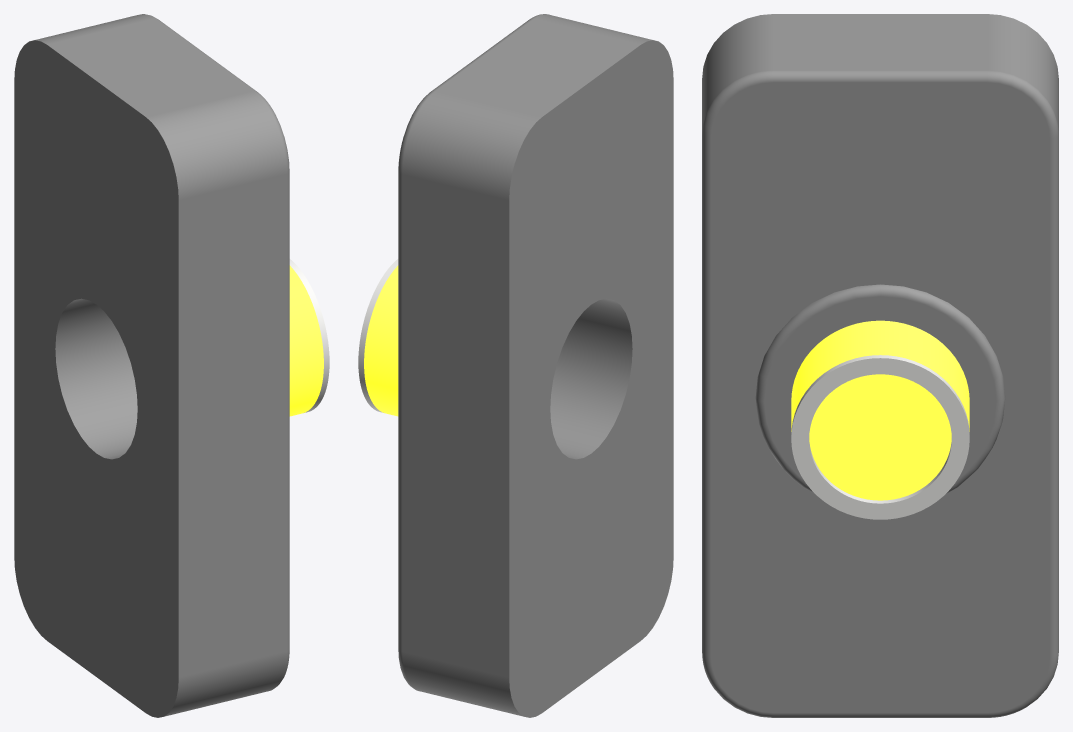
File: boutonjaune.gltf
3 views of the same model, side by side, from view 1: azimuth 30°, elevation 25°; view 2: azimuth 150°, elevation 25°; view 3: azimuth 270°, elevation 25° (orthographic). The views are drawn at different scales.
Visible parts, largest first — view 1: Body1.001, Body1, bande; view 2: Body1.001, Body1, bande; view 3: Body1.001, Body1, bande.
Part boxes in pixels (<box>): Body1.001: <box>14,14,289,717</box>; Body1: <box>289,265,323,416</box>; bande: <box>289,259,329,412</box>; Body1.001: <box>398,14,673,717</box>; Body1: <box>364,265,398,416</box>; bande: <box>358,259,398,412</box>; Body1.001: <box>702,14,1058,717</box>; Body1: <box>791,320,969,500</box>; bande: <box>791,355,969,519</box>.
Size of the model in its own units: 0.0674 by 0.2 by 0.1.
